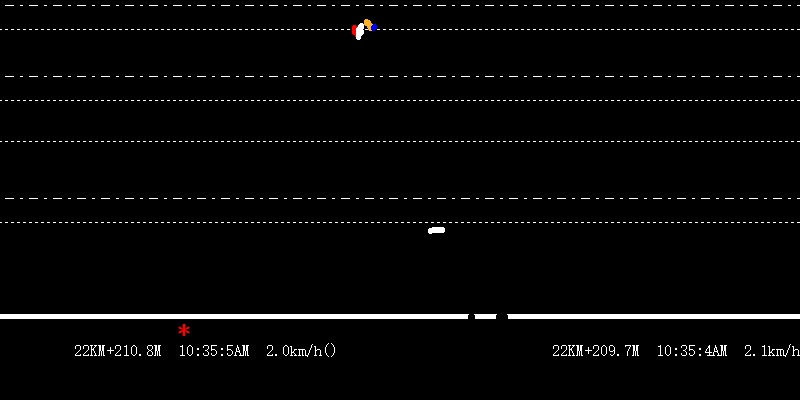face_1: (362, 17, 374, 32)
face_s: (350, 17, 363, 40)
star: (176, 320, 192, 341)
